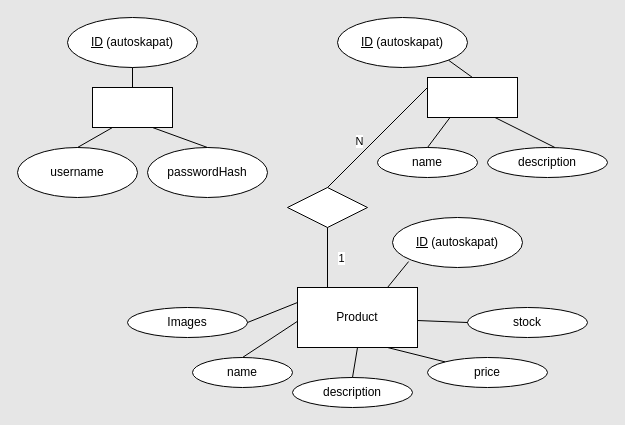
This 625x425 diagram has some shape labels left out. The shapes that lost their labels are listed below. From the top down, each one's centre as x and y in pixels, then its label:
(132,107): User
(472,97): Category
(327,207): Has
